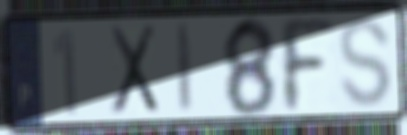1: (51, 26, 78, 117)
8: (219, 13, 280, 119)
F: (275, 15, 338, 115)
I: (173, 20, 195, 117)
S: (336, 15, 394, 111)
X: (106, 21, 161, 119)
